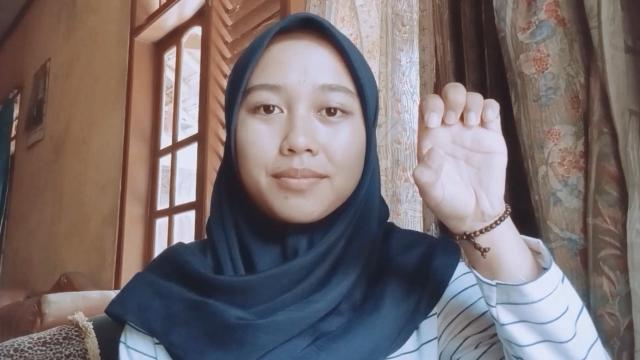E: (412, 82, 508, 230)
